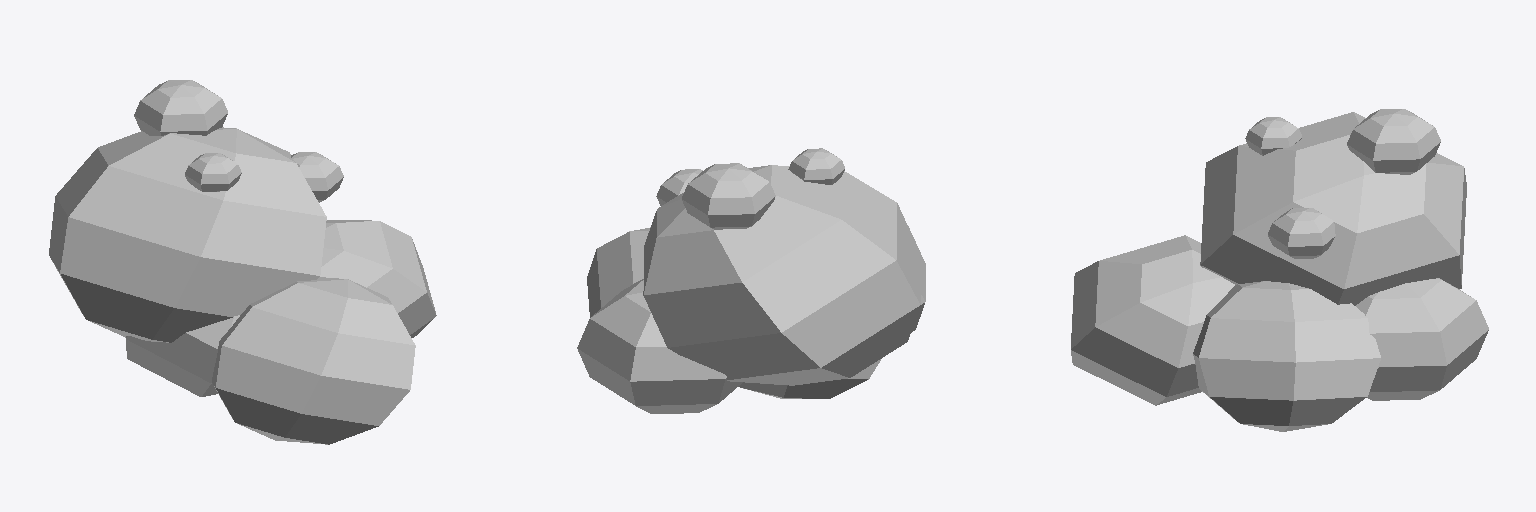
Rendered from GRRRRMatthewsthrower.obj.
The picture shows the model from 3 angles: view 1: azimuth 30°, elevation 25°; view 2: azimuth 150°, elevation 25°; view 3: azimuth 270°, elevation 25°; orthographic projection.
Visible parts, largest first — view 1: polySurface1; view 2: polySurface1; view 3: polySurface1.
Boxes of the visible parts, <box> form: polySurface1: <box>49,80,436,444</box>; polySurface1: <box>577,148,925,413</box>; polySurface1: <box>1071,109,1488,431</box>.
Bounding box in the file's own units: 2.78 × 2.04 × 2.89.